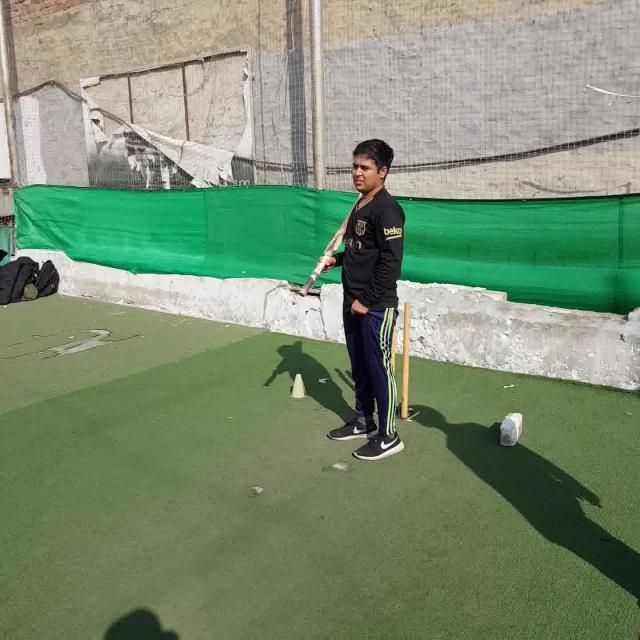bat: (299, 193, 361, 296)
